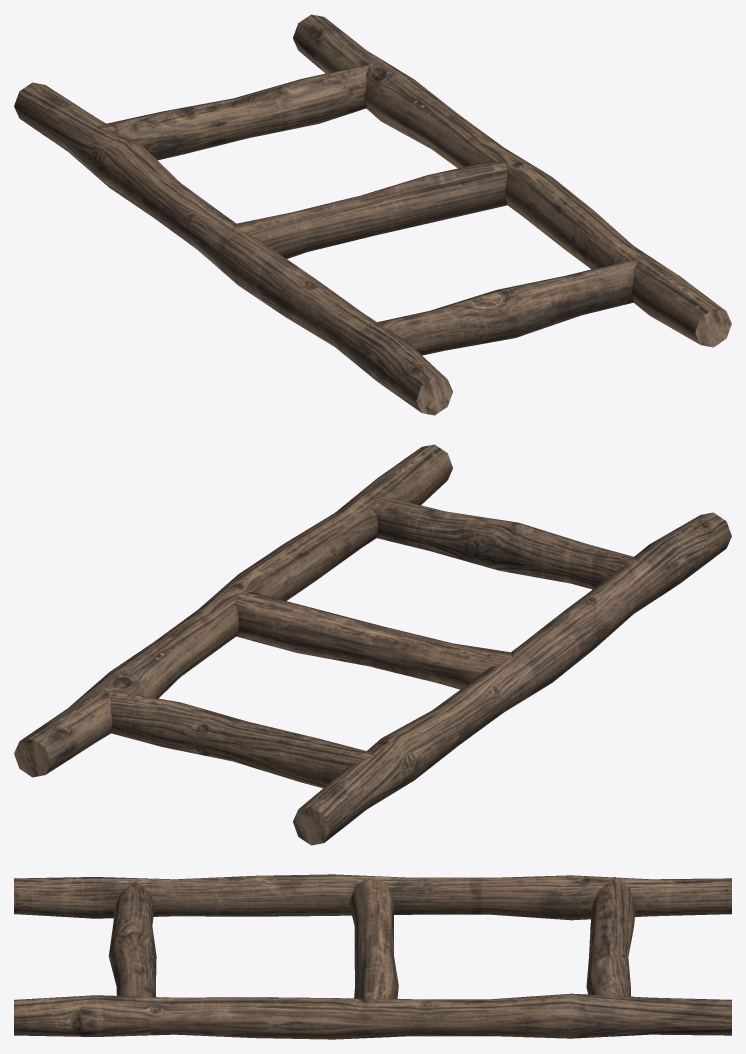
Rendered from Ladder_a.fbx.
3 renders of one model, top to bottom at view 1: azimuth 30°, elevation 25°; view 2: azimuth 150°, elevation 25°; view 3: azimuth 270°, elevation 25°, orthographic. The views are drawn at different scales.
Visible parts, largest first — view 1: Ladder_a; view 2: Ladder_a; view 3: Ladder_a.
Part boxes in pixels (box(x1,y1,x2,y2)): Ladder_a: box(14, 14, 731, 415); Ladder_a: box(14, 444, 731, 845); Ladder_a: box(14, 874, 731, 1039).
Bounding box in the file's own units: 94.21 × 13.39 × 201.
